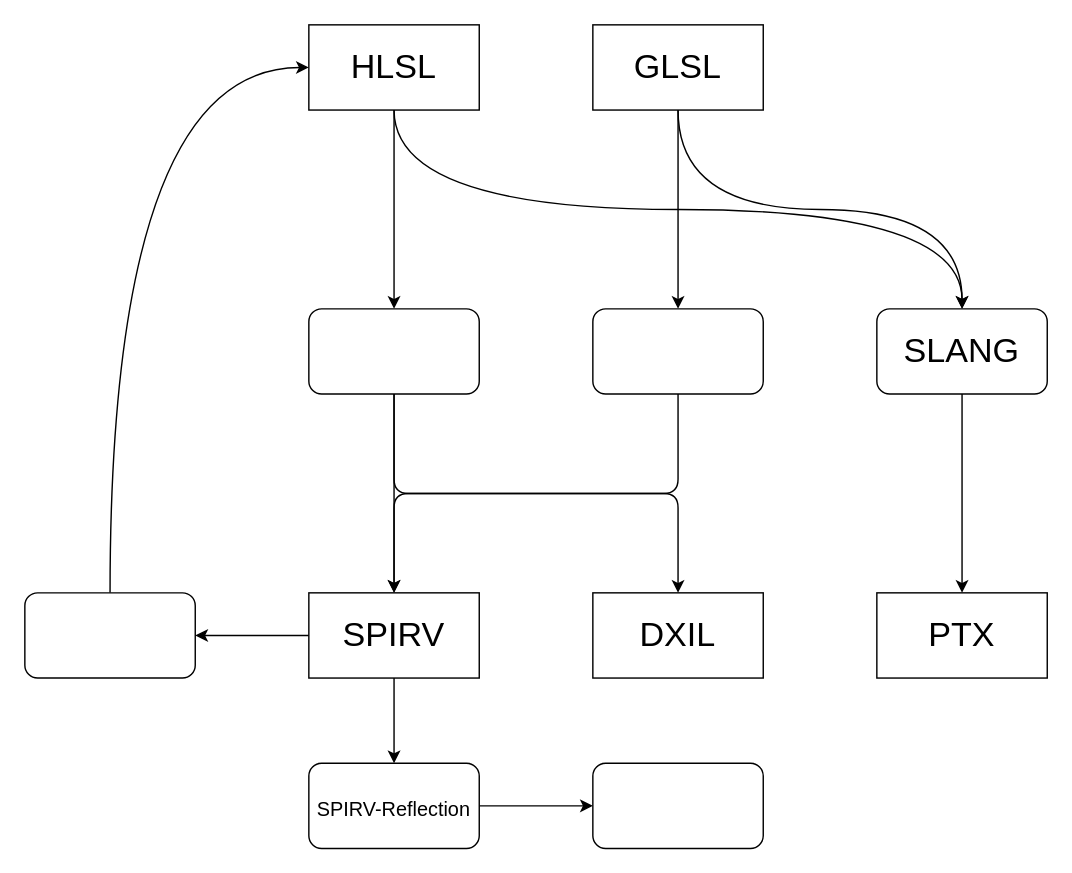
This 1072x873 diagram has some shape labels left out. The box of each missing label's shape, as (x1, y1, x2, y2) in pixels:
DXC: (307, 307, 479, 394)
GLSLANG: (591, 307, 763, 394)
Meta Info: (591, 762, 763, 848)
SPIRV-CROSS: (23, 591, 195, 678)
